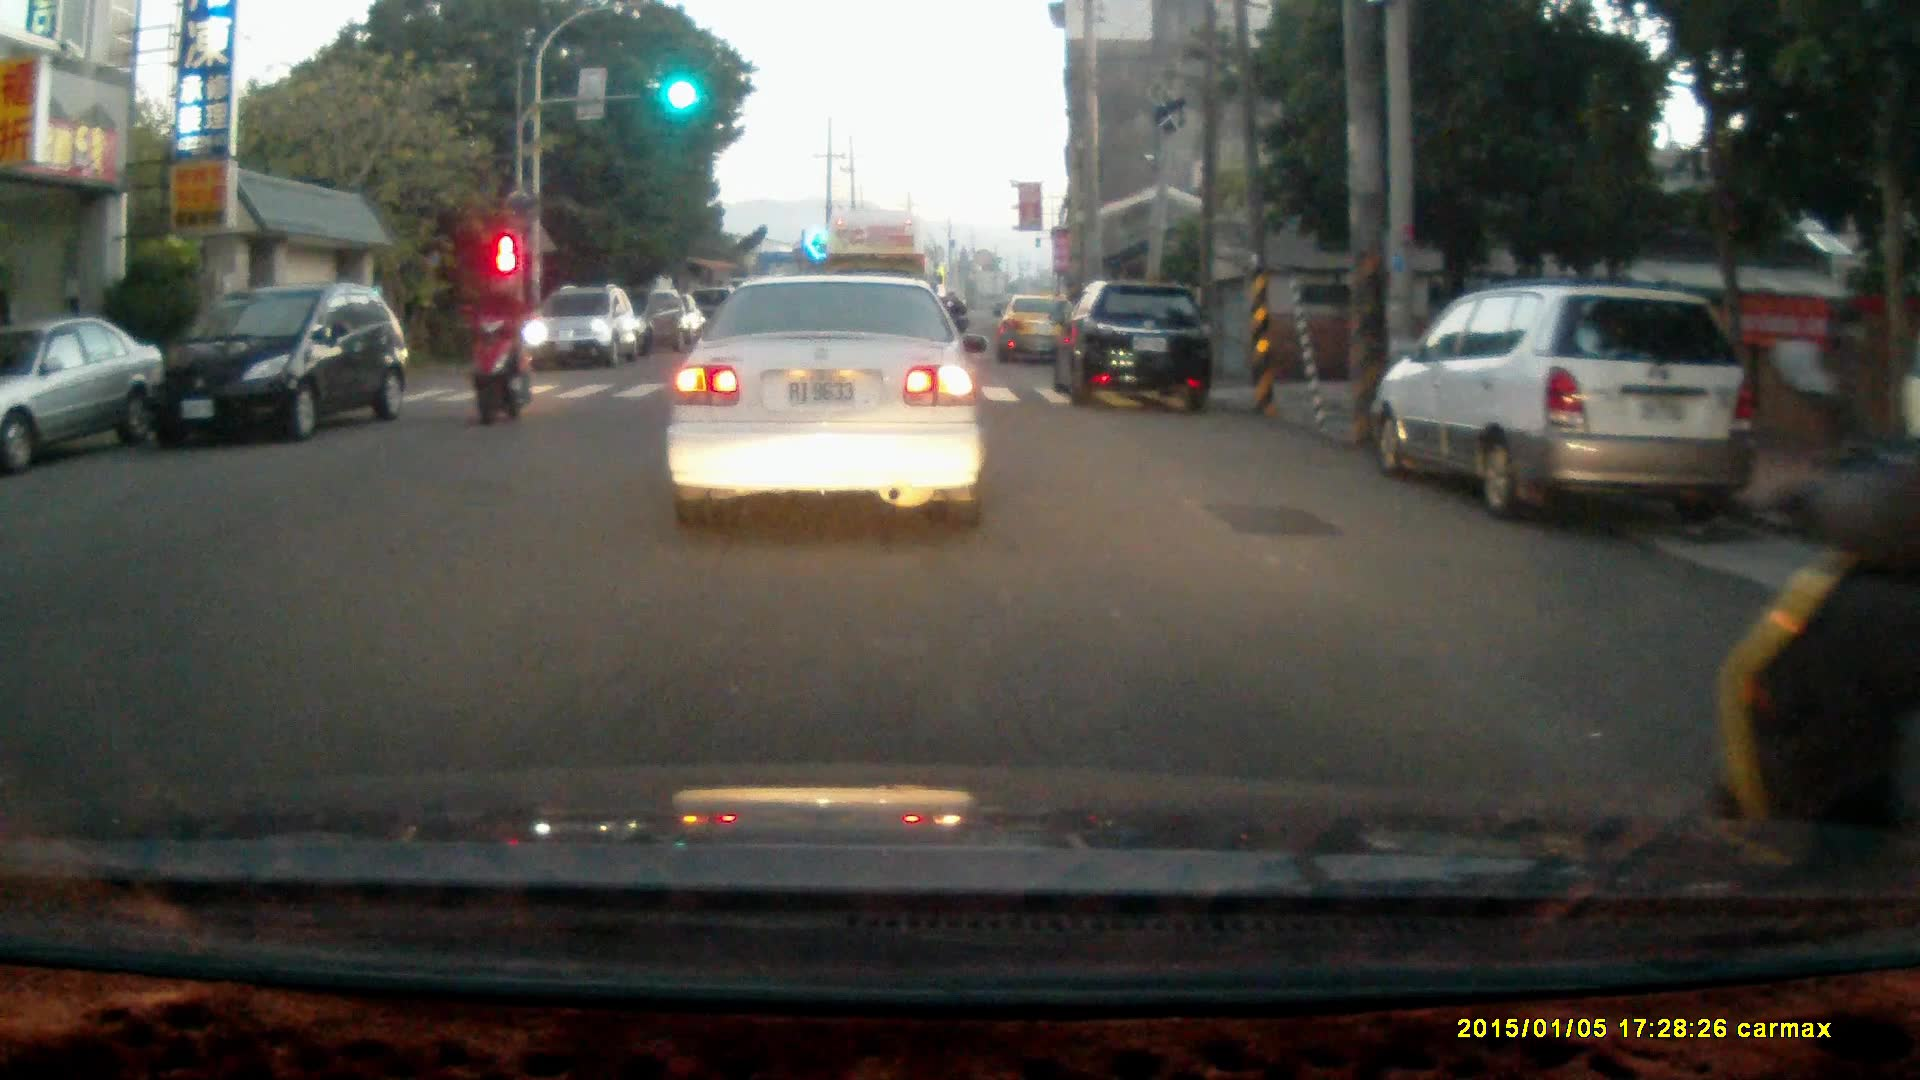rider: (1715, 330, 1920, 905), (469, 266, 533, 429)
vehicle: (1382, 283, 1752, 515), (670, 270, 991, 524), (143, 283, 411, 450), (0, 316, 160, 464), (1054, 278, 1213, 408), (822, 205, 937, 365), (525, 286, 642, 373), (995, 293, 1086, 367)
